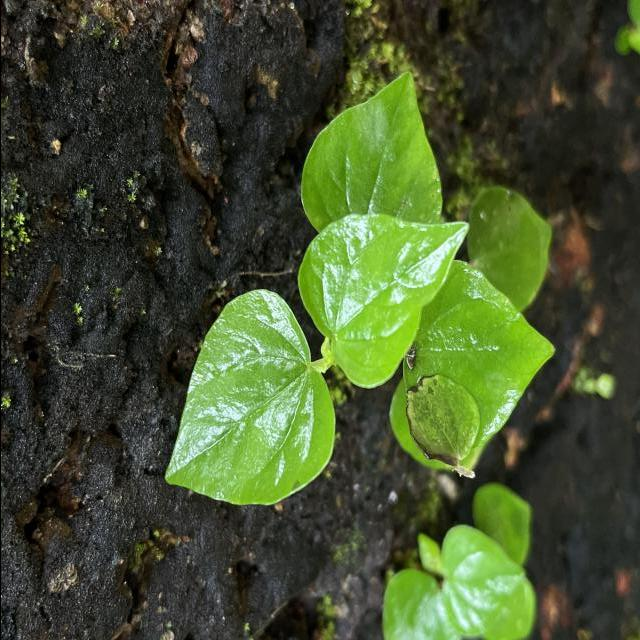Peperomia pellucida: (156, 282, 338, 514), (290, 210, 473, 394), (294, 65, 444, 233)
